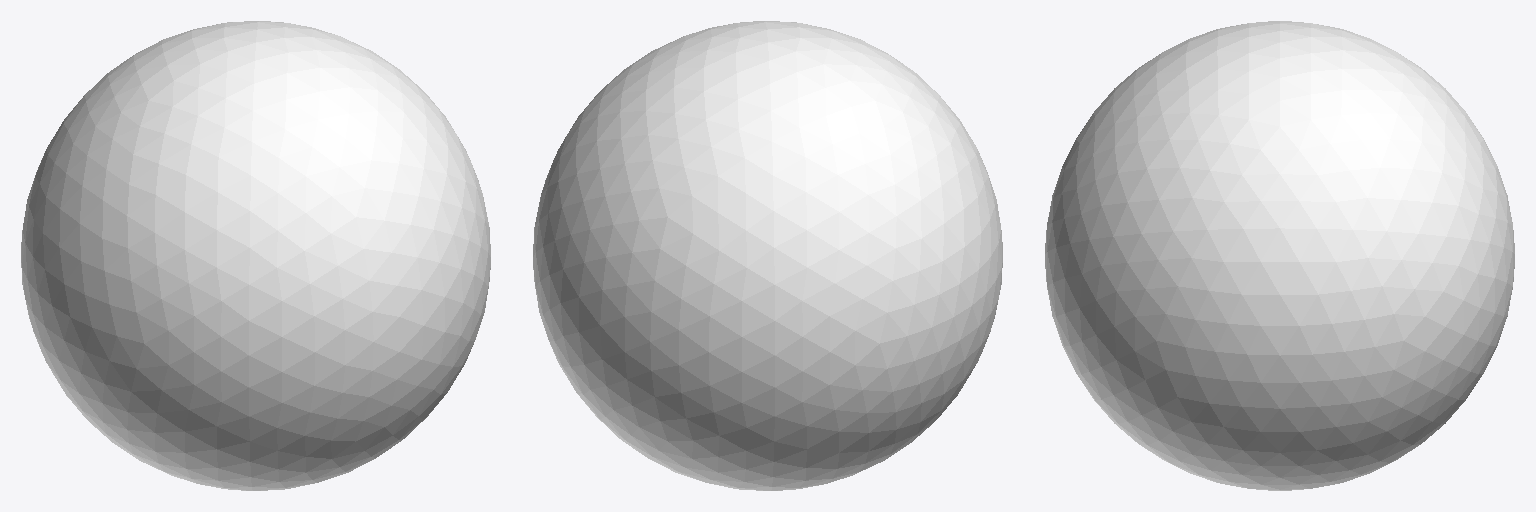
The model's file is IsoPlanet.obj.
3 renders of one model, left to right at view 1: azimuth 30°, elevation 25°; view 2: azimuth 150°, elevation 25°; view 3: azimuth 270°, elevation 25°, orthographic.
Visible parts, largest first — view 1: IsoPlanet; view 2: IsoPlanet; view 3: IsoPlanet.
Boxes of the visible parts, x1=… form: IsoPlanet: x1=21, y1=21, x2=490, y2=490; IsoPlanet: x1=533, y1=21, x2=1002, y2=490; IsoPlanet: x1=1045, y1=21, x2=1514, y2=490.
Bounding box in the file's own units: 2 × 2 × 2.